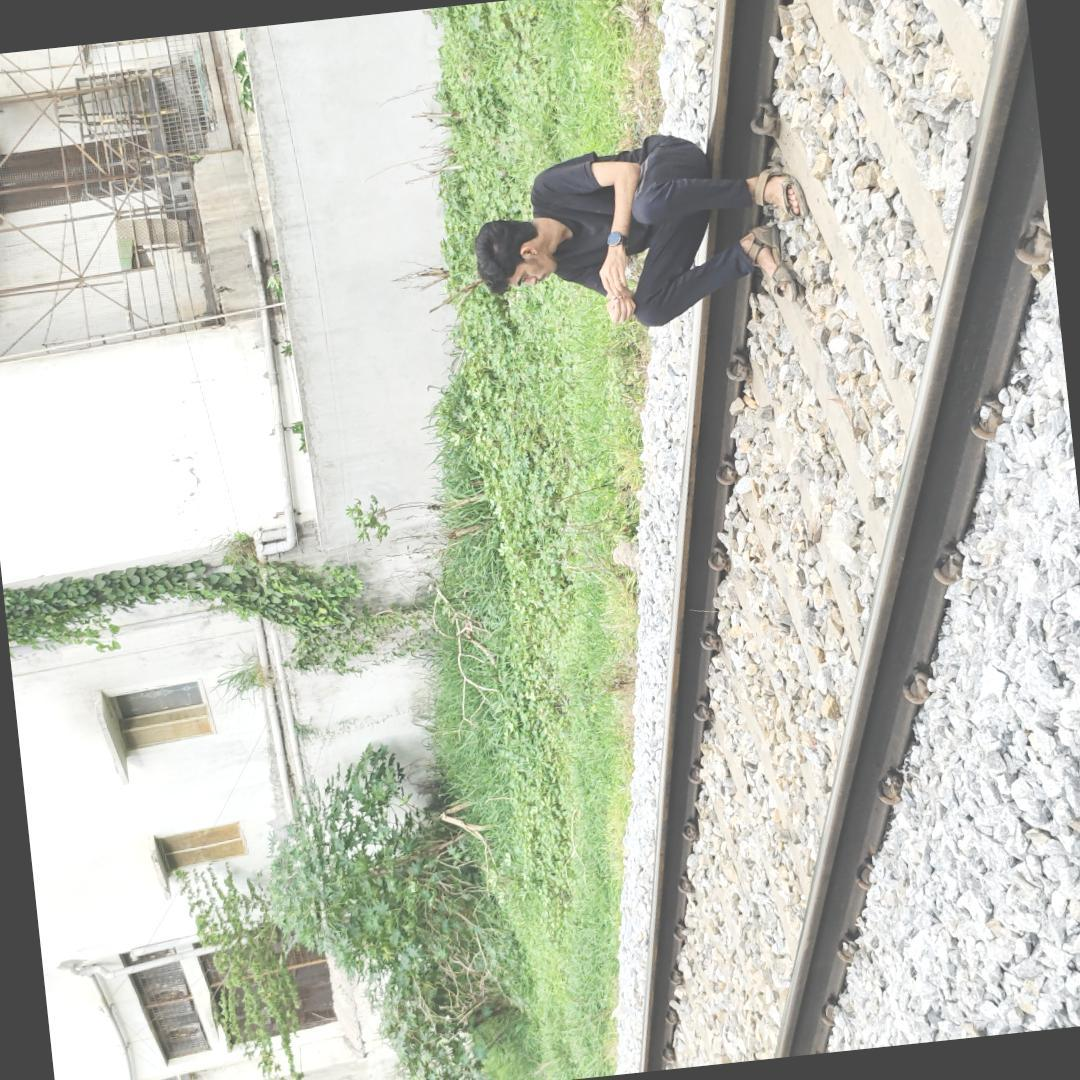sitting: (442, 98, 831, 366)
